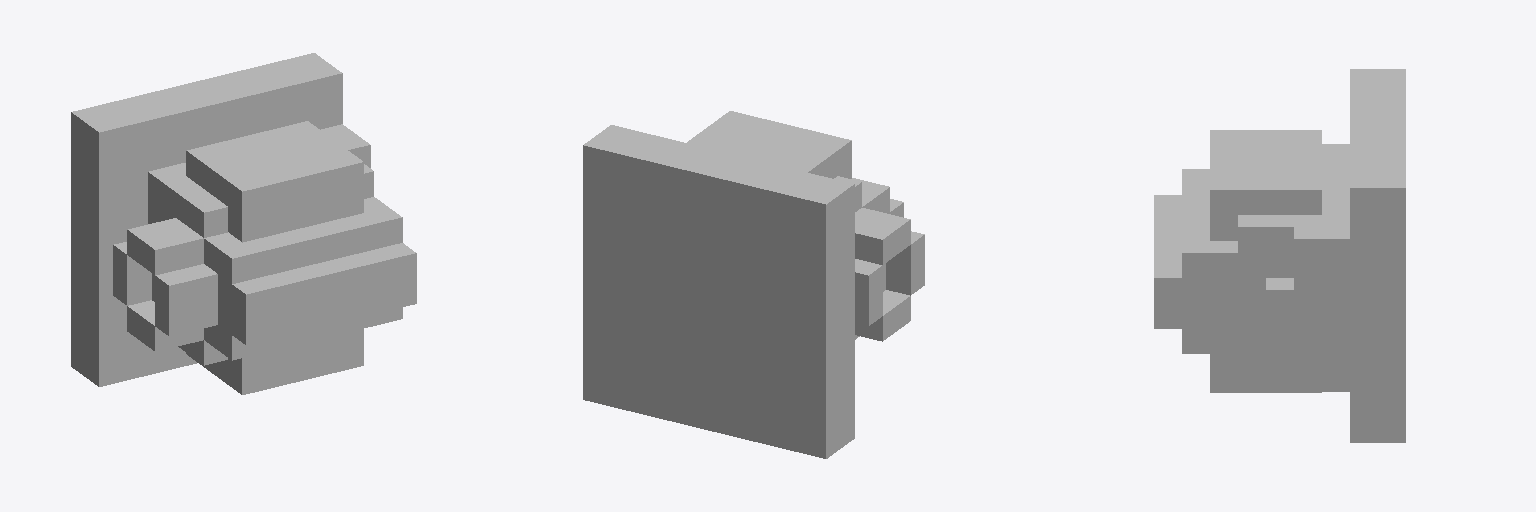
Rendered from TawerOne.obj.
3 views of the same model, side by side, from view 1: azimuth 30°, elevation 25°; view 2: azimuth 150°, elevation 25°; view 3: azimuth 270°, elevation 25° (orthographic).
Parts seen in each view (by area): view 1: object 1; view 2: object 1; view 3: object 1.
Part boxes in pixels (bbox=[...]): object 1: bbox=[71, 53, 416, 394]; object 1: bbox=[583, 111, 924, 458]; object 1: bbox=[1154, 69, 1405, 442].
Bounding box in the file's own units: 10 × 10 × 9.